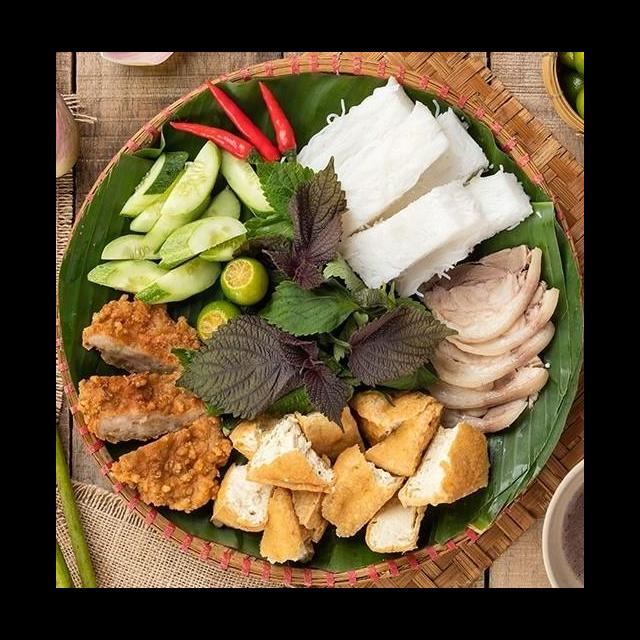bun: (281, 71, 539, 307)
bun dau: (70, 76, 580, 574)
cha com: (66, 293, 235, 529)
dau hu: (205, 380, 501, 569)
thit heo: (402, 233, 562, 441)
